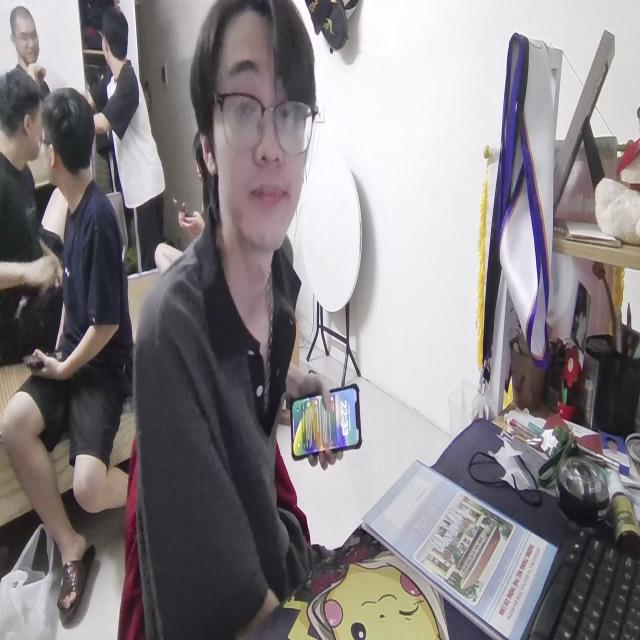book: (360, 453, 564, 640)
extra_person: (13, 87, 132, 612), (93, 7, 169, 262), (0, 80, 55, 340), (11, 10, 42, 84)
phone: (286, 380, 366, 461)
student: (130, 0, 324, 640)
